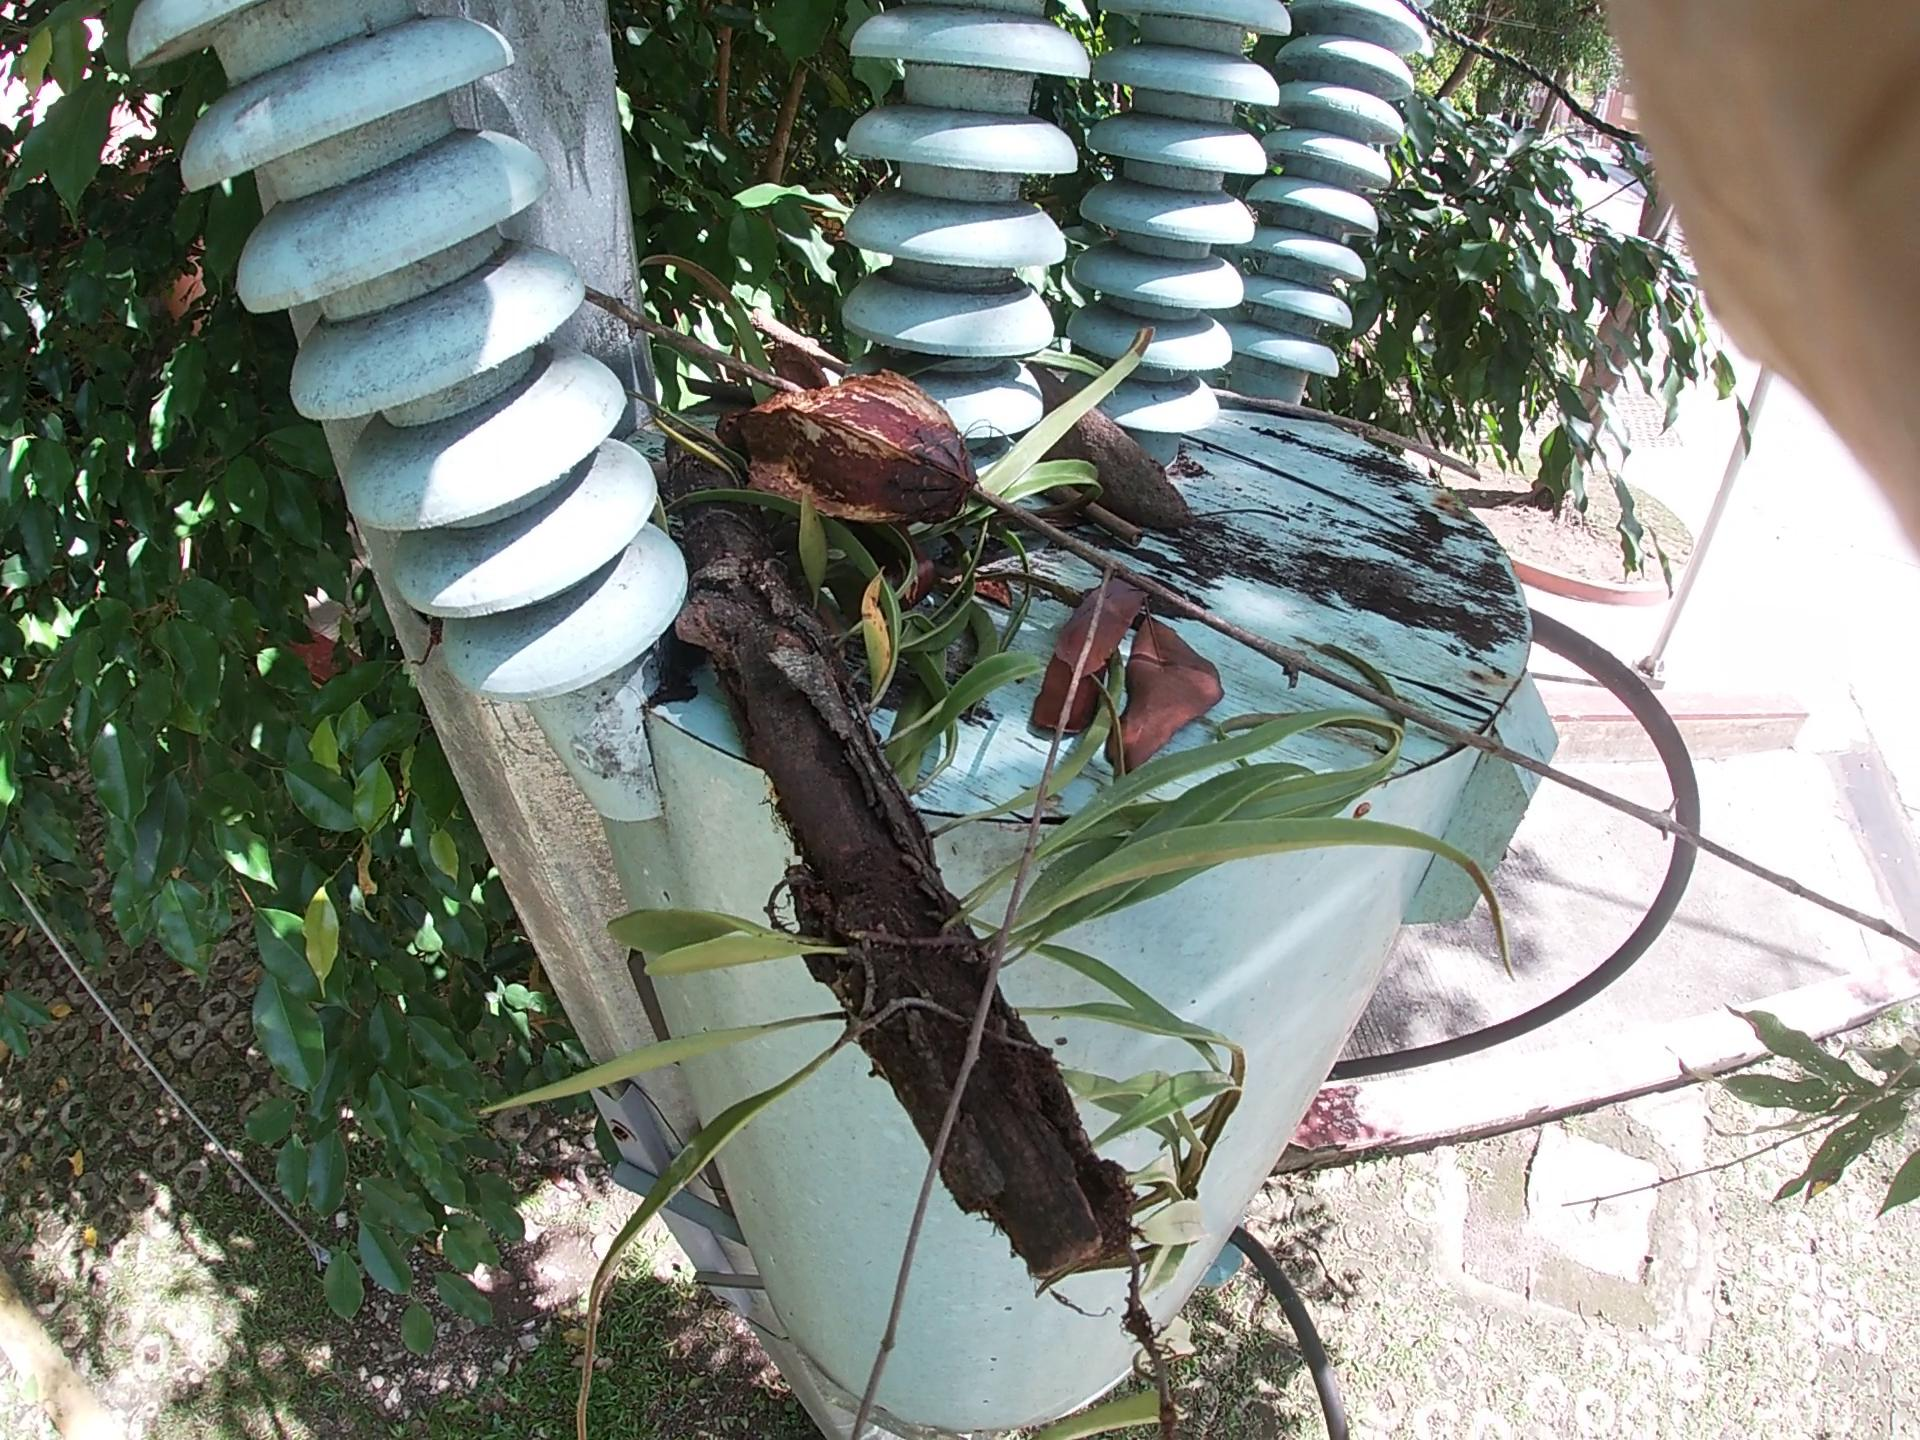branch with leaves: (590, 304, 1197, 1184)
leaf: (1008, 570, 1271, 711)
mahogany fruit: (910, 277, 1241, 601), (671, 343, 1085, 526)
tree branch: (599, 286, 1680, 880), (1023, 457, 1250, 607), (1222, 362, 1439, 437)
